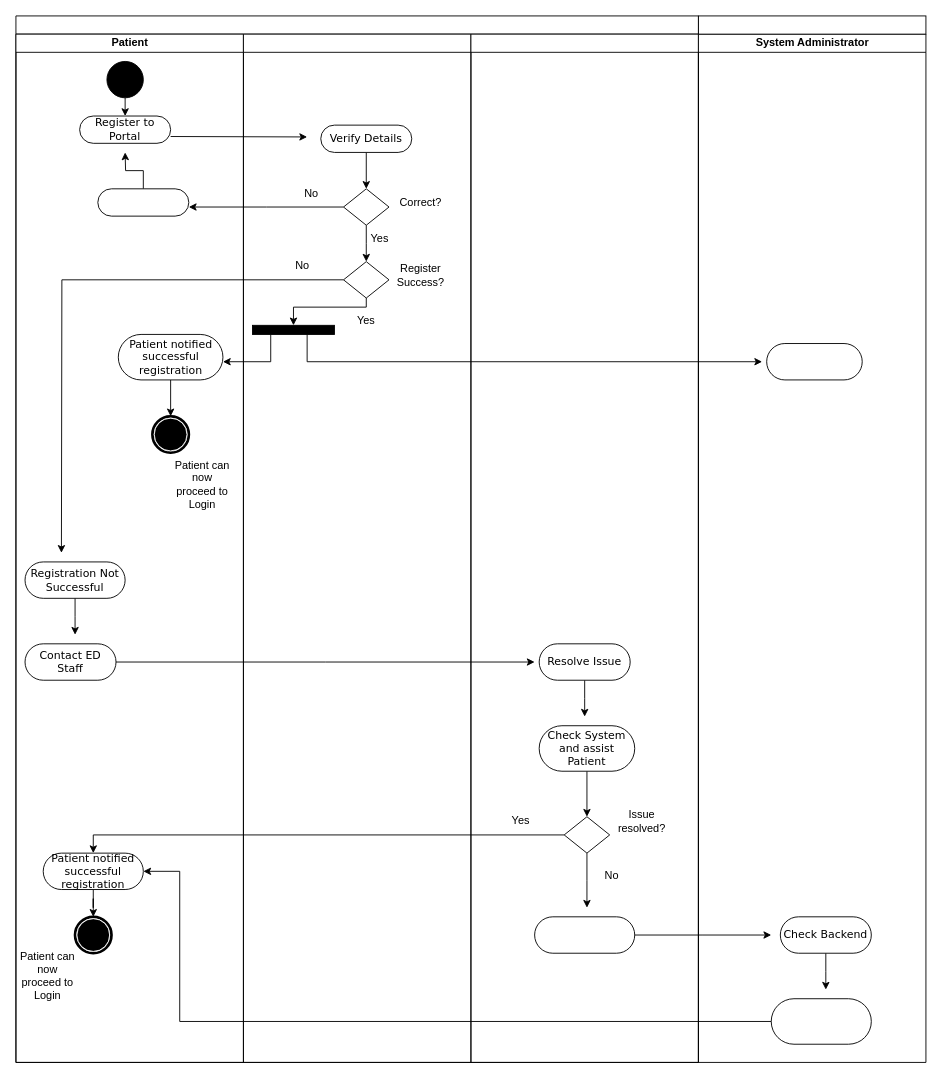
Image size: 942x1078. Some labels were removed from this diagram. The shapes that lost their labels are listed below. From the top down, each one's box as (x1, y1, x2, y2) in pixels, then its label:
(97, 188, 189, 216): Check and try again
(766, 343, 862, 380): Notified new registration
(243, 33, 471, 1062): System (GUI)
(470, 33, 698, 1062): ED Staff
(534, 916, 635, 953): Contact System Adminstrator
(770, 998, 871, 1044): Fix Issue and Register Patient
